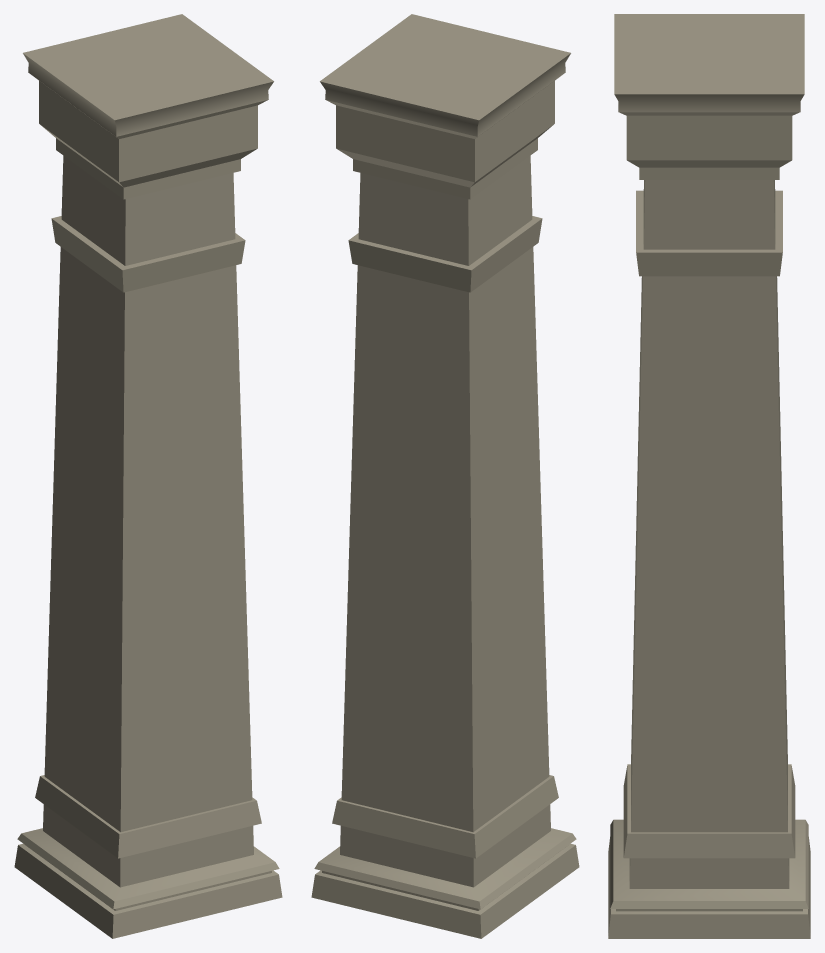
Rendered from Column_SquareBig.glb.
The picture shows the model from 3 angles, left to right: view 1: azimuth 30°, elevation 25°; view 2: azimuth 150°, elevation 25°; view 3: azimuth 270°, elevation 25°; orthographic projection. The views are drawn at different scales.
Parts seen in each view (by area): view 1: Column_SquareBig_Cube.062; view 2: Column_SquareBig_Cube.062; view 3: Column_SquareBig_Cube.062.
Part boxes in pixels (x1,y1,x2,y2): Column_SquareBig_Cube.062: [14, 14, 282, 938]; Column_SquareBig_Cube.062: [311, 14, 579, 938]; Column_SquareBig_Cube.062: [608, 14, 810, 938].
Size of the model in its own units: 0.9072 by 4.16 by 0.9072.
